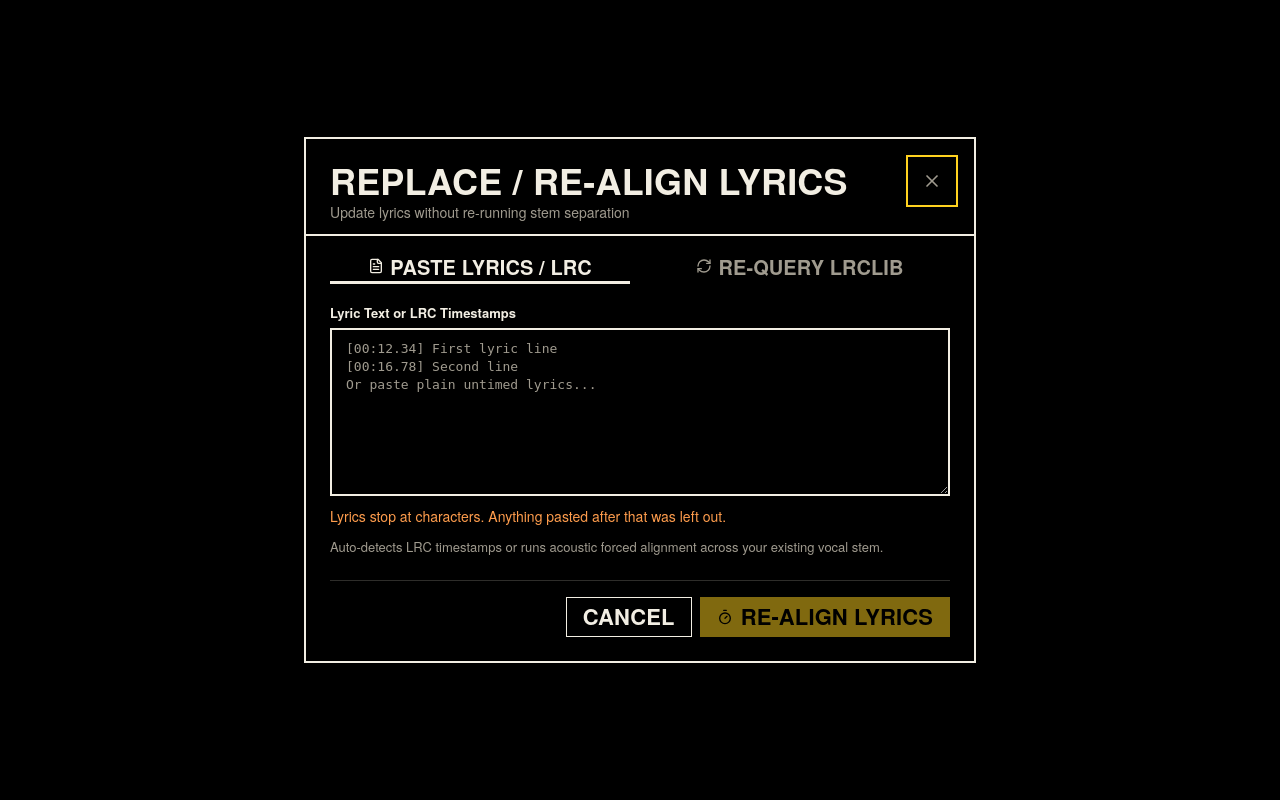
Test: the list of LRCLIB versions › marks the version the song uses and names what is wrong with sloppy ones
Click the button "Re-query LRCLIB". click: (800, 268)
box: 650,252 -> 950,284
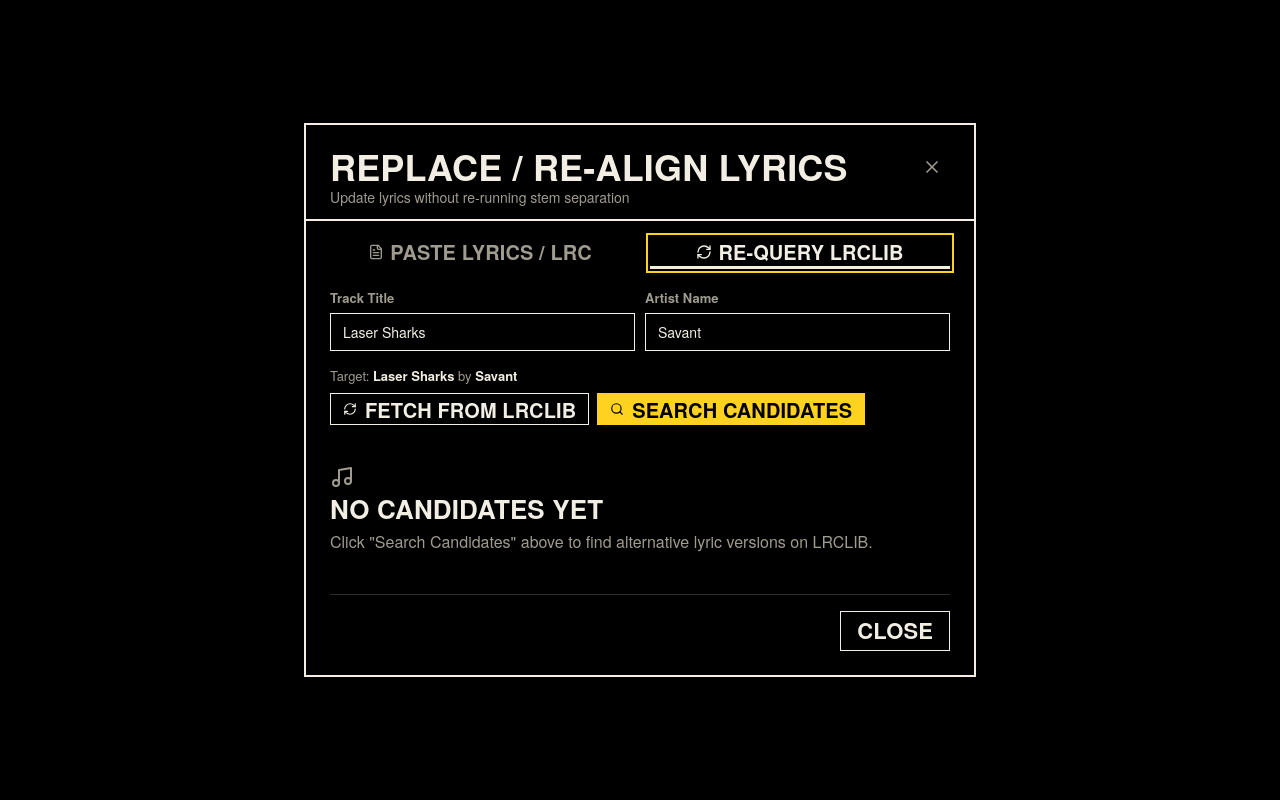
Click the button "Search Candidates". click: (731, 409)
box: 597,393 -> 865,425
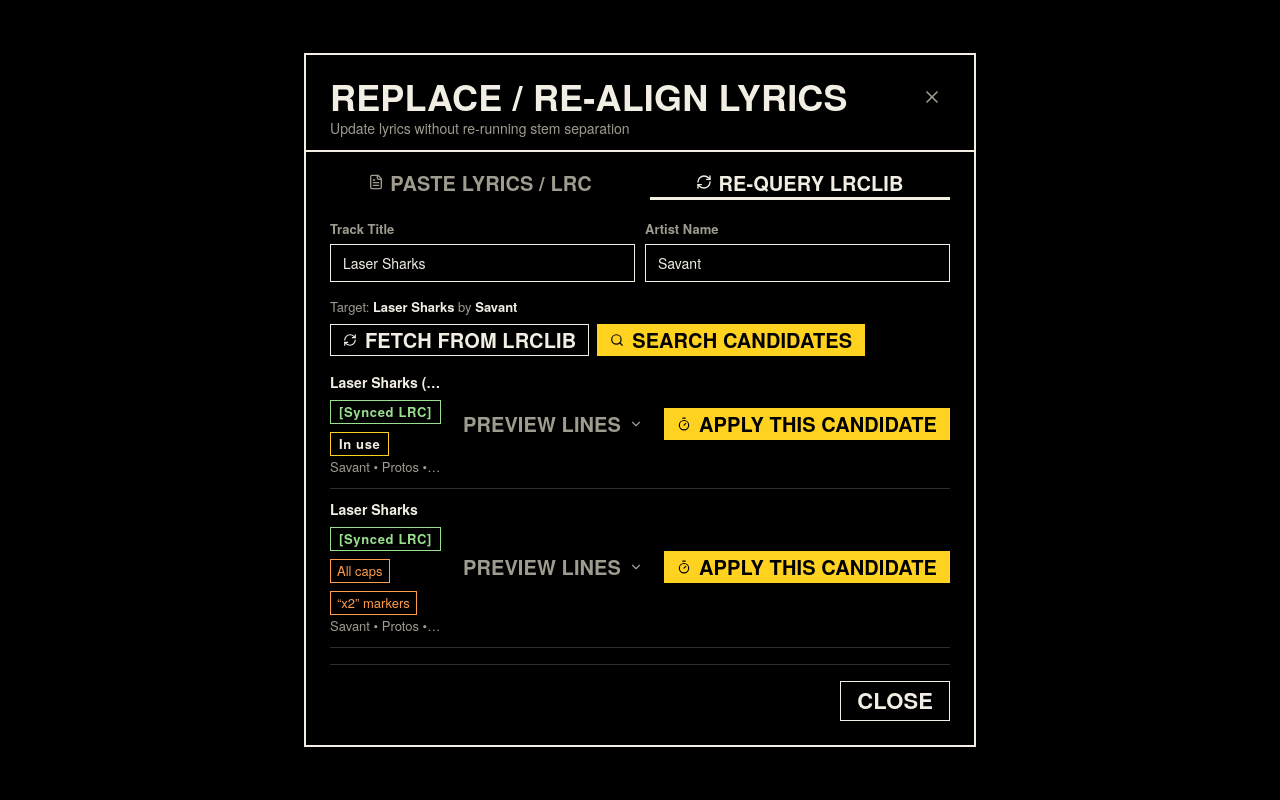
Result: the element with test id "lyric-candidate-1" is shown at 330,499 -> 950,648
Result: the text with test id "badge-in-use" reads "In use" at 339,434 -> 380,453
Result: the text with test id "quality-flag-all_caps" reads "All caps" at 337,561 -> 382,580
